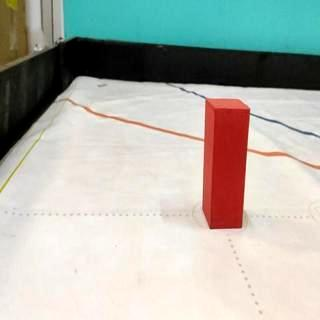redbox: (202, 98, 250, 230)
